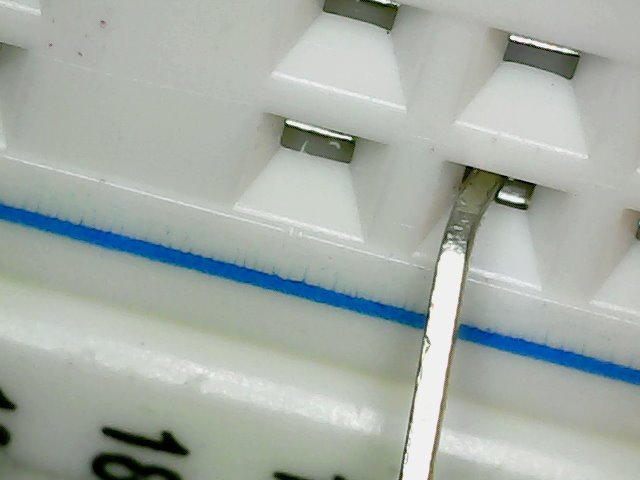connect: (416, 133, 576, 314)
